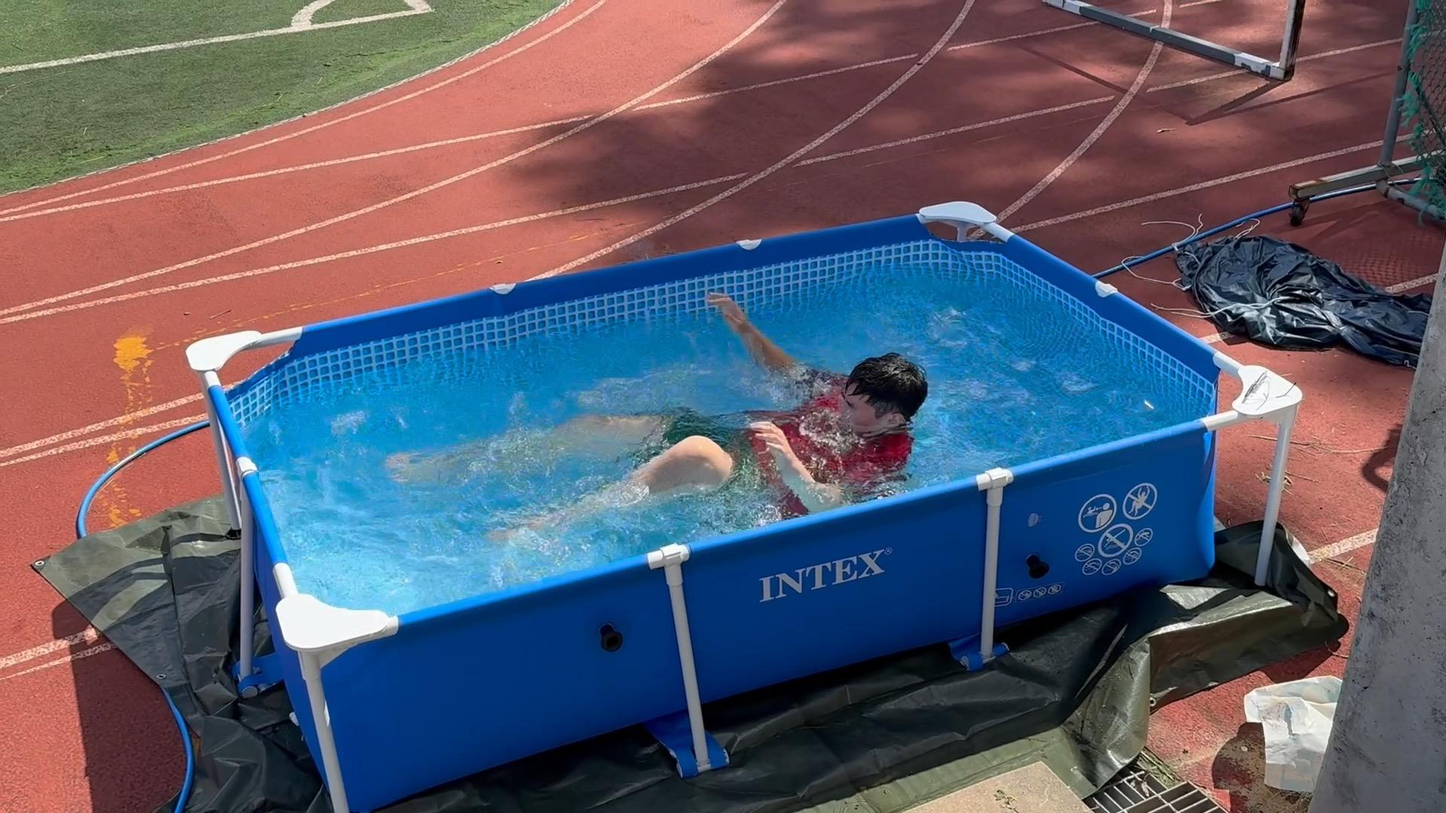Drowning: (429, 286, 948, 560)
